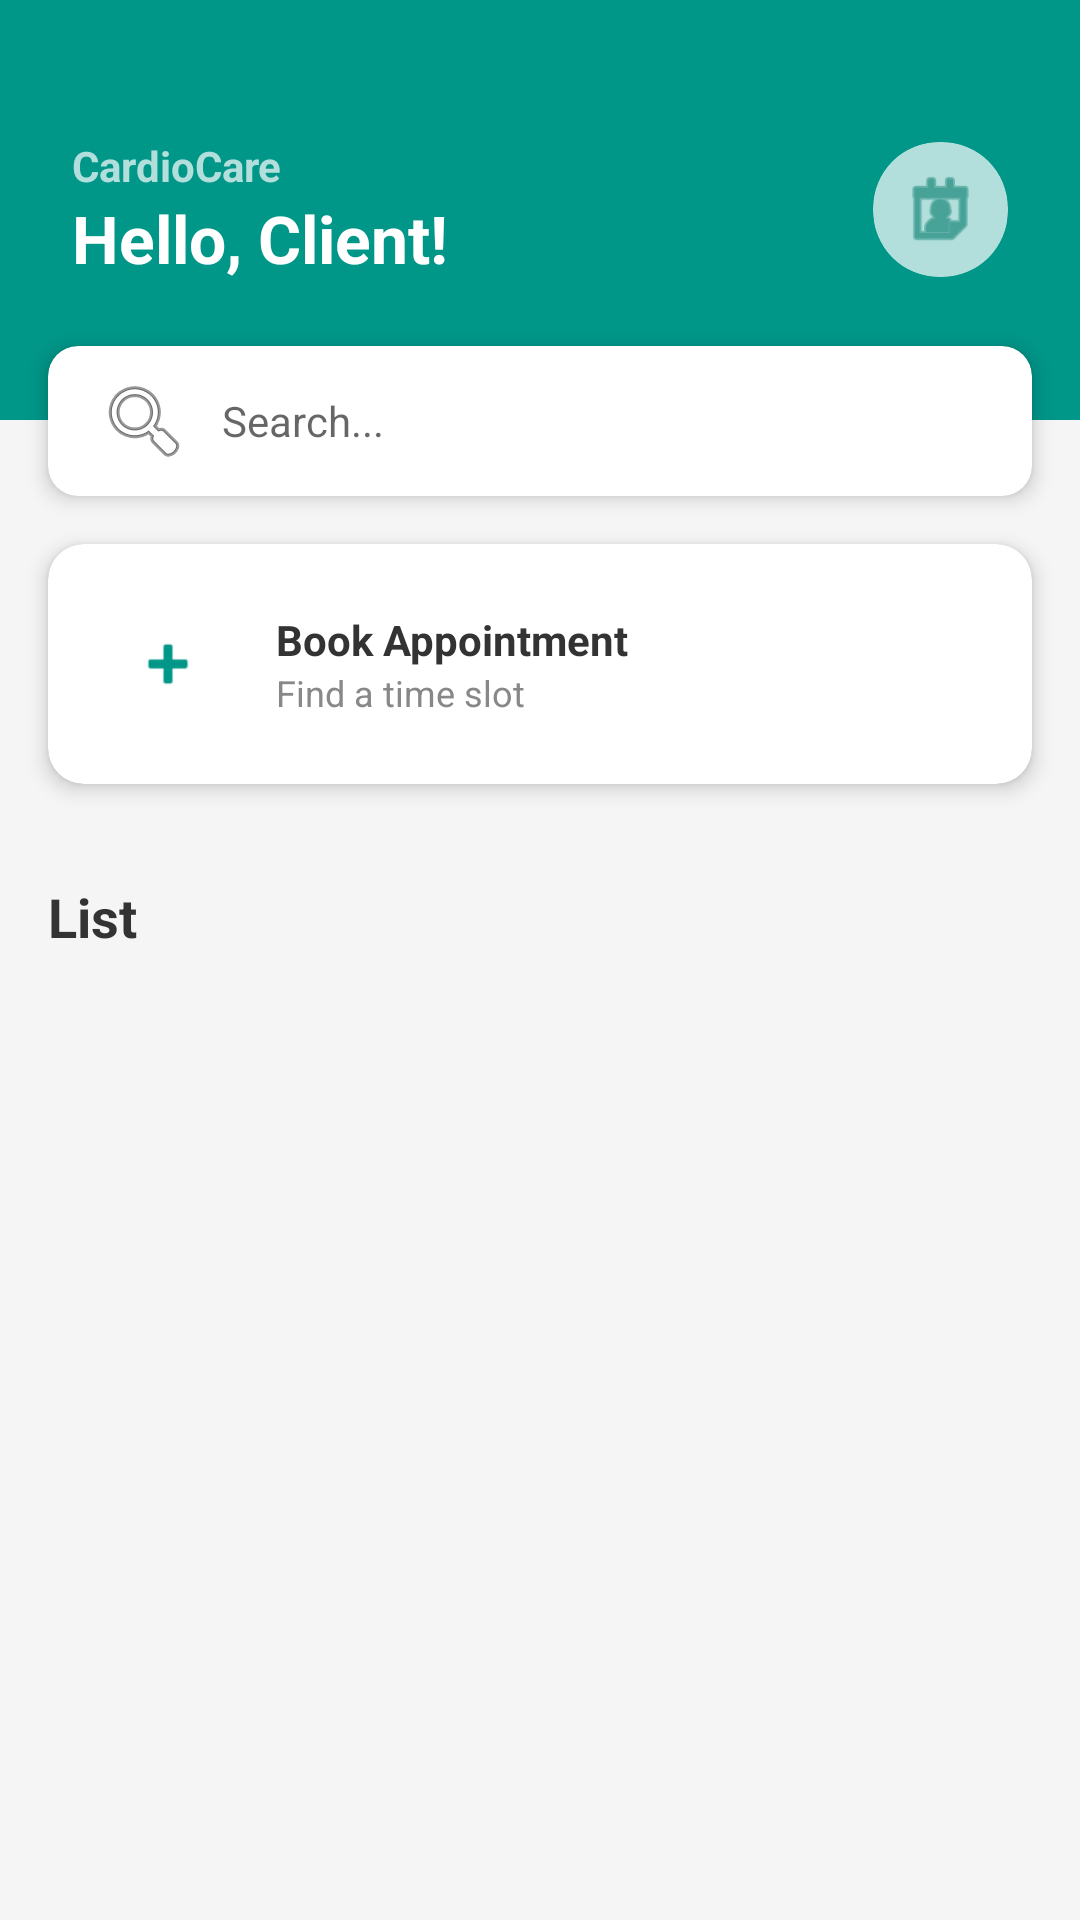

Locate icon controls on the screen. Image size 1080 x 1920, boxes as (x1=x1, y1=y1, x2=x2, y2=y2).
add: (x1=147, y1=644, x2=189, y2=684)
calendar: (x1=873, y1=142, x2=1008, y2=277)
